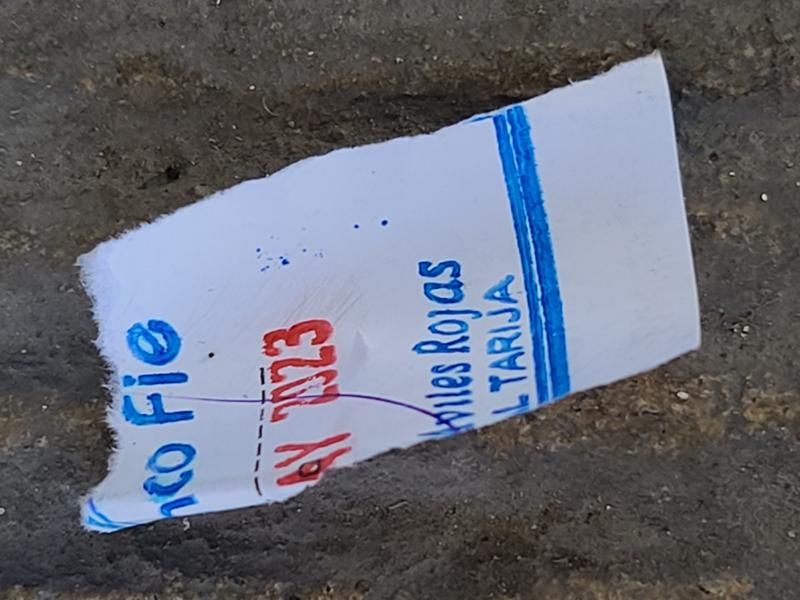papel: (74, 53, 701, 535)
